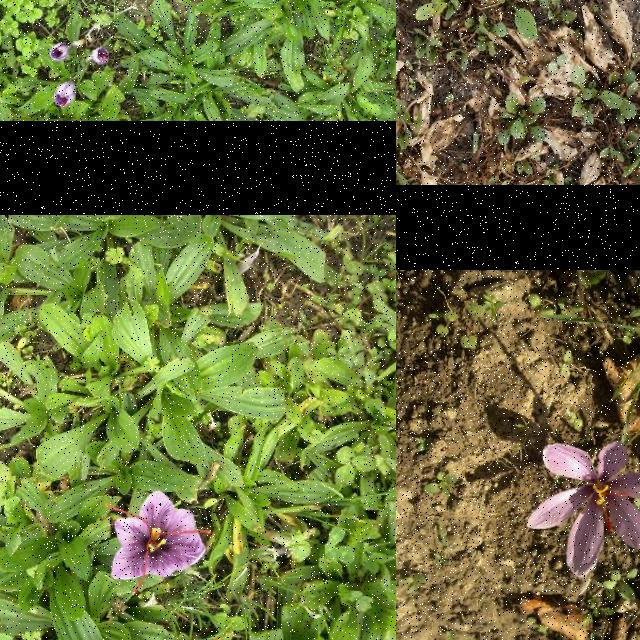flower: (527, 441, 640, 579), (105, 491, 211, 592), (54, 82, 78, 110), (50, 44, 72, 62), (94, 48, 110, 64)
